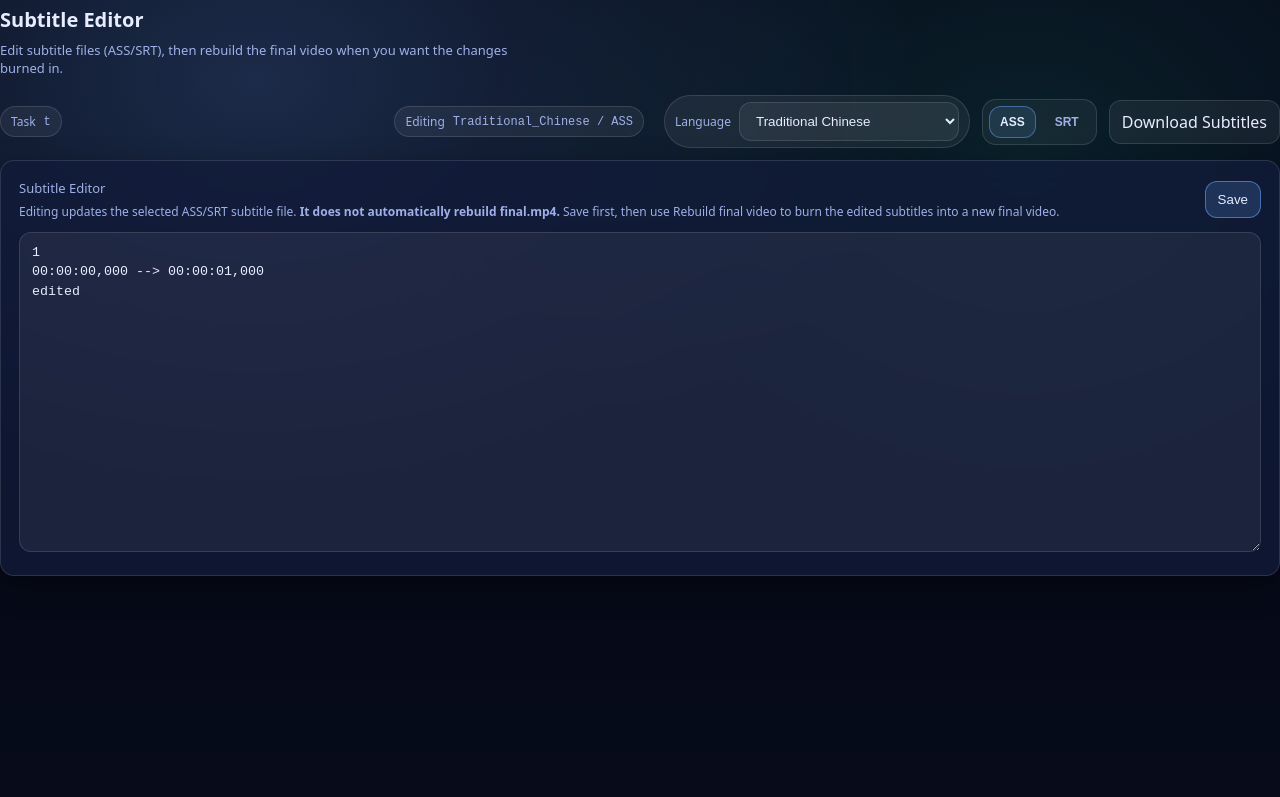
Scenario: SubtitlePage › shows backend warnings and rebuild action after subtitle save
Click the button "Save": (1233, 200) x1=1205 y1=181 x2=1261 y2=218
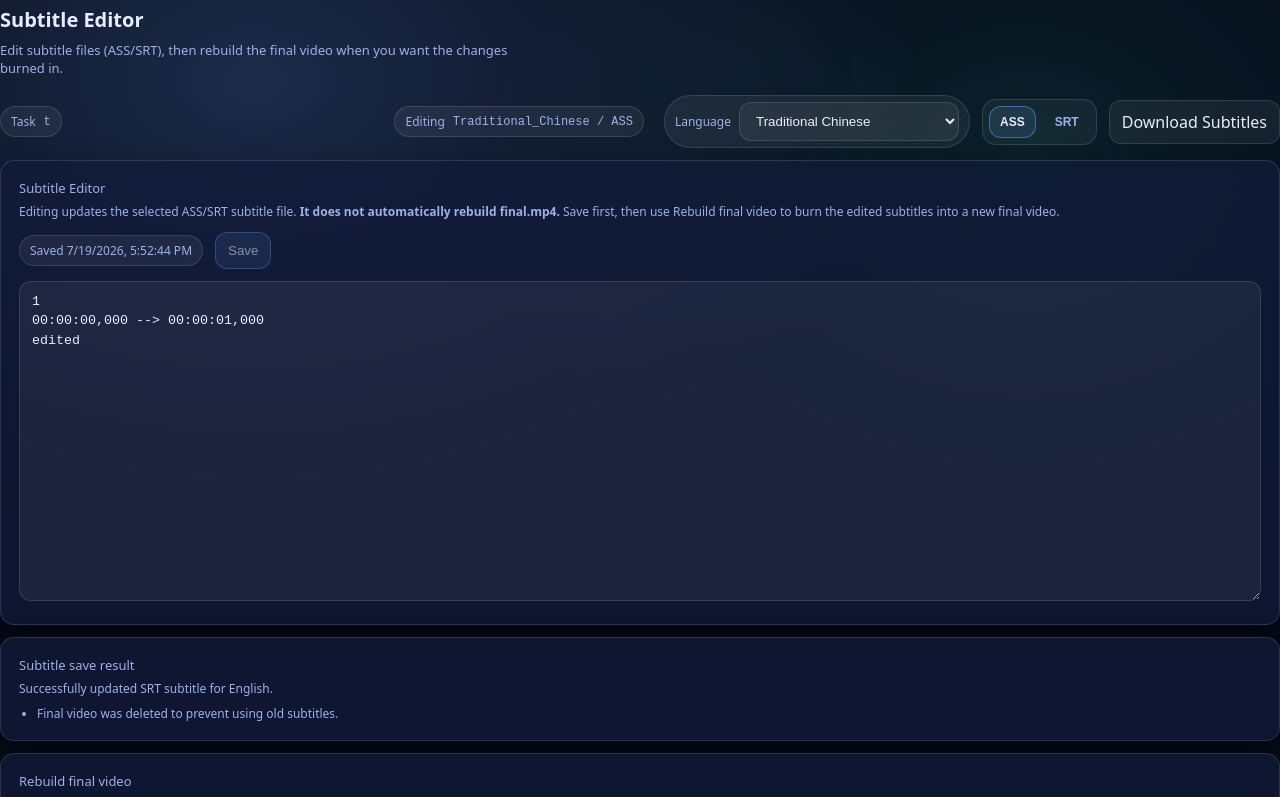
Expected: the text "Rebuild final video" is shown, x1=560 y1=203 x2=1060 y2=220
Expected: the text "Successfully updated SRT subtitle" is shown, x1=19 y1=680 x2=273 y2=697
Expected: the text "Final video was deleted" is shown, x1=37 y1=705 x2=338 y2=722
